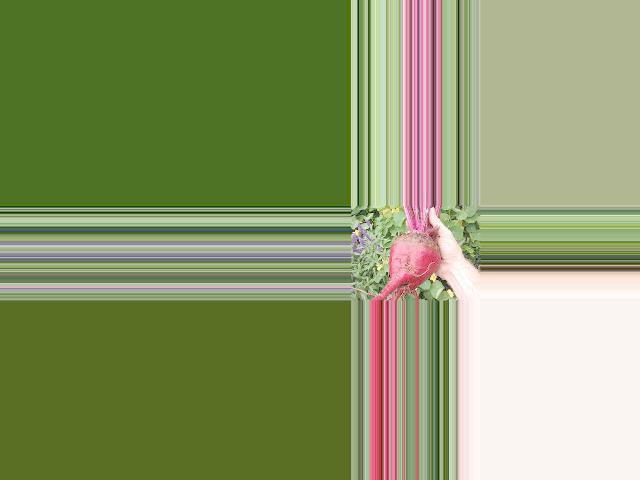beet: (370, 206, 440, 301)
